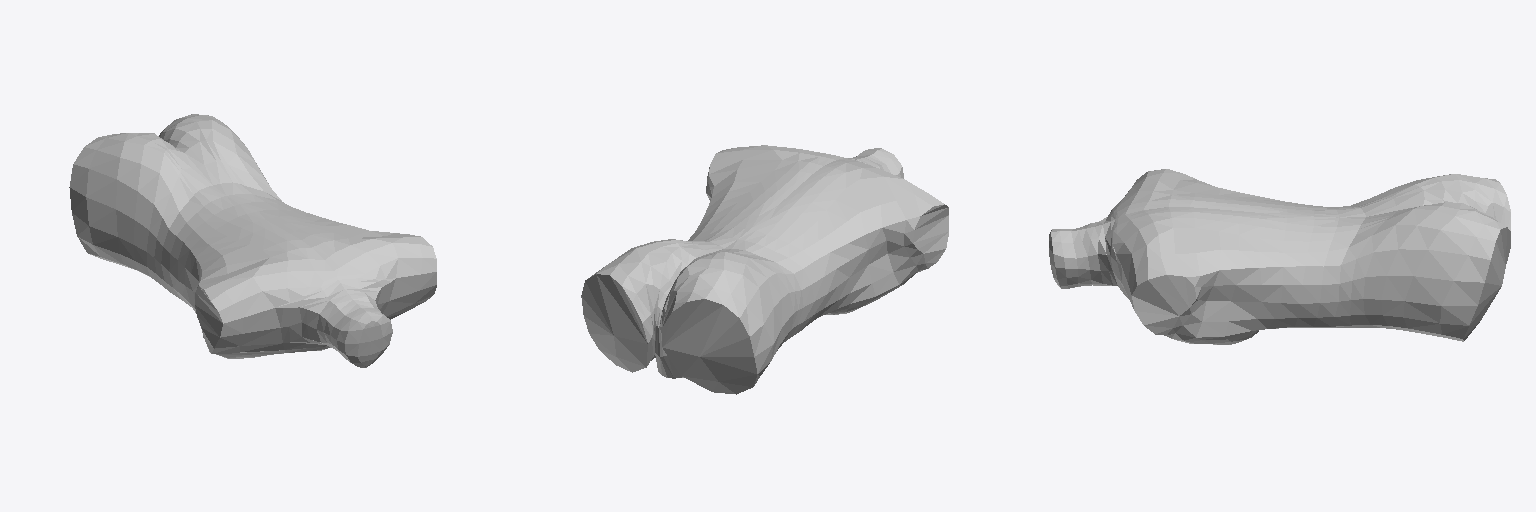
File: body.obj
3 renders of one model, left to right at view 1: azimuth 30°, elevation 25°; view 2: azimuth 150°, elevation 25°; view 3: azimuth 270°, elevation 25°, orthographic.
Visible parts, largest first — view 1: <OFFRoot> 메시; view 2: <OFFRoot> 메시; view 3: <OFFRoot> 메시.
Boxes of the visible parts, x1=… form: <OFFRoot> 메시: x1=69, y1=114, x2=436, y2=367; <OFFRoot> 메시: x1=581, y1=145, x2=948, y2=394; <OFFRoot> 메시: x1=1049, y1=169, x2=1510, y2=344.
Bounding box in the file's own units: 0.5262 × 0.2823 × 0.95.